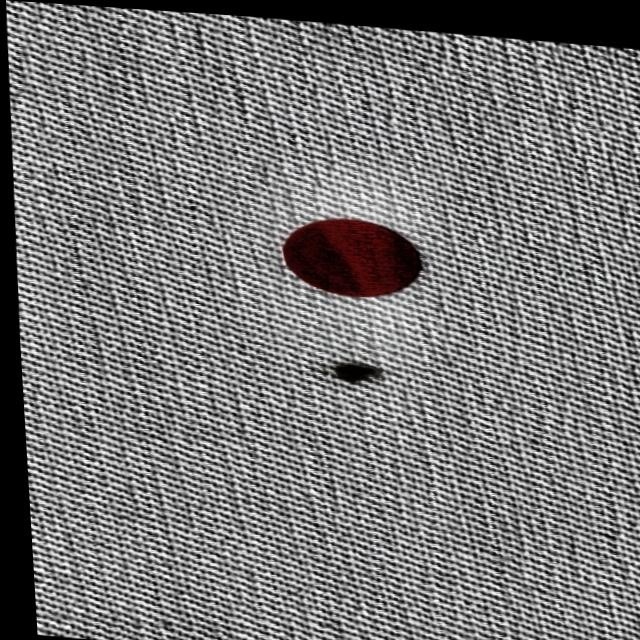Hole: (303, 334, 405, 407)
